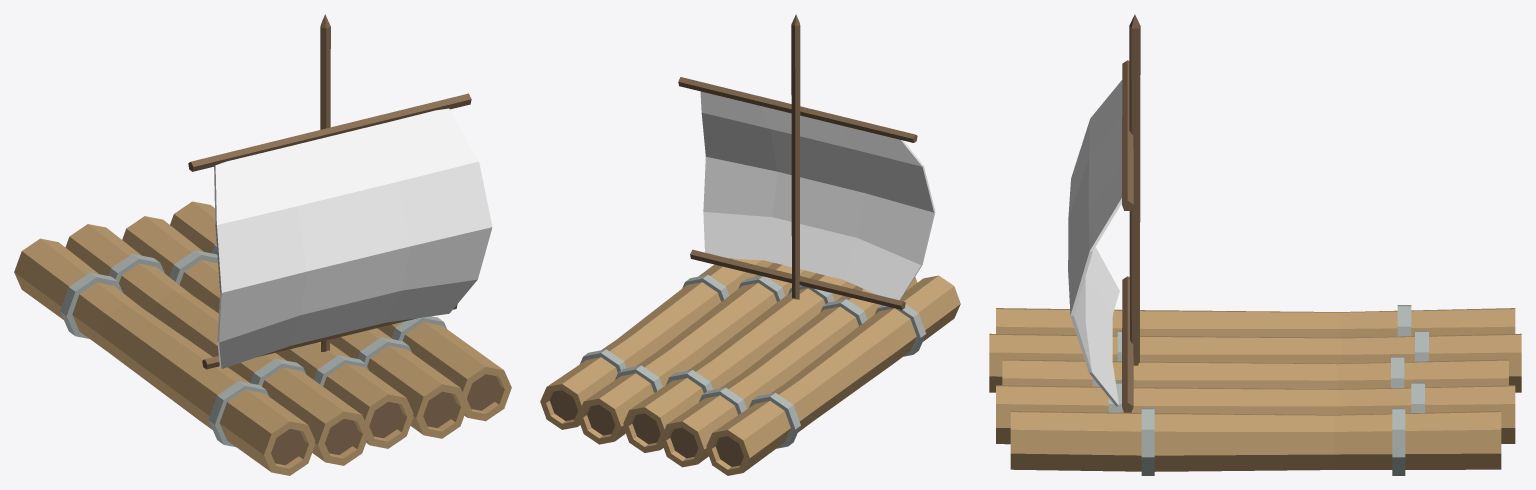
The model's file is Raft.fbx.
3 renders of one model, left to right at view 1: azimuth 30°, elevation 25°; view 2: azimuth 150°, elevation 25°; view 3: azimuth 270°, elevation 25°, orthographic. The views are drawn at different scales.
Parts seen in each view (by area): view 1: Raft; view 2: Raft; view 3: Raft.
Part boxes in pixels (left/top/right/bottom): Raft: left=14, top=14, right=511, bottom=475; Raft: left=540, top=14, right=960, bottom=475; Raft: left=989, top=14, right=1521, bottom=475.
Bounding box in the file's own units: 153 × 208 × 245.
1 material, 1 textured.
